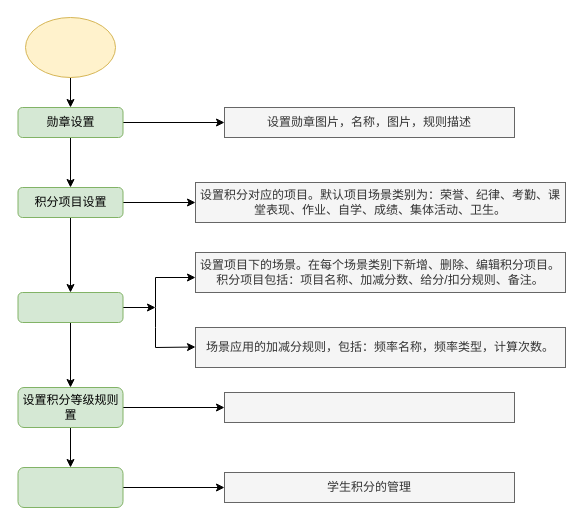
The diagram is 583 pixels wide and 525 high, and some of its shapes have lost their labels. Each missing label, with the centre of its shape:
"管理员端" belongs at [70,47].
"管理学生积分" belongs at [70,487].
"设置各积分区间对应的积分等级" belongs at [369,407].
"项目场景设置" belongs at [70,307].
